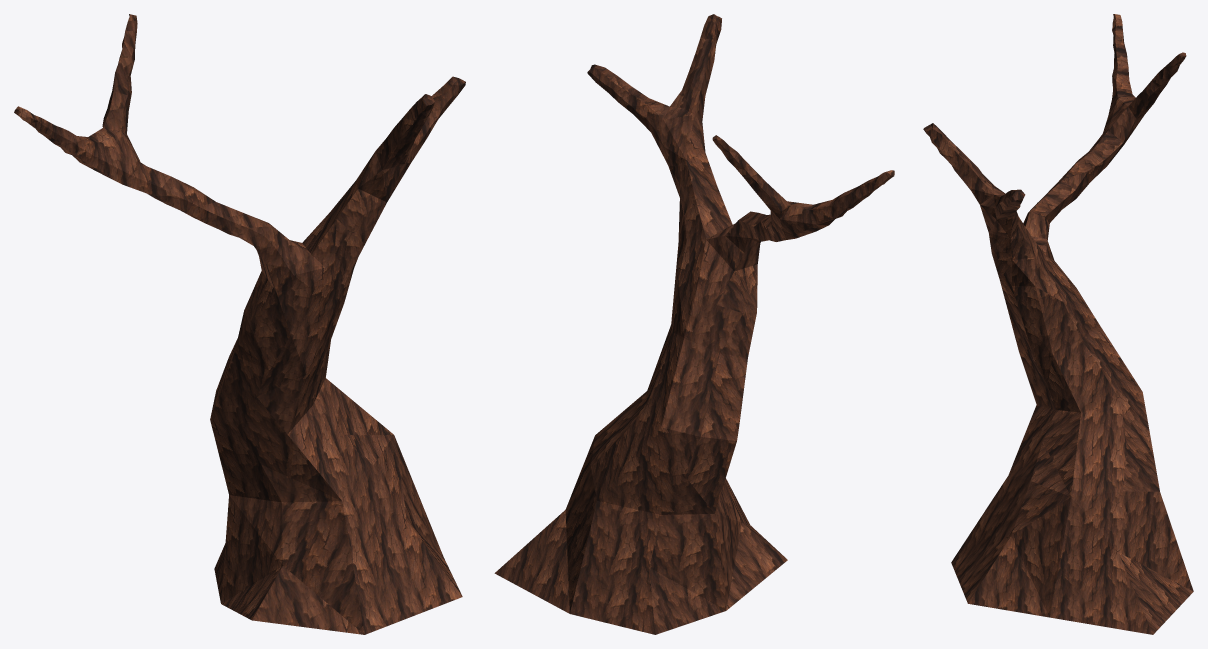
File: dtree_bare_1.glb
The picture shows the model from 3 angles, left to right: view 1: azimuth 30°, elevation 25°; view 2: azimuth 150°, elevation 25°; view 3: azimuth 270°, elevation 25°; orthographic projection. The views are drawn at different scales.
Visible parts, largest first — view 1: model; view 2: model; view 3: model.
Boxes of the visible parts, x1,y1,x2,y2 form: model: (14, 14, 465, 634); model: (494, 14, 894, 634); model: (923, 14, 1193, 634).
Bounding box in the file's own units: 3.84 × 5.01 × 2.53.
Materials: 1 (1 with a texture image).
